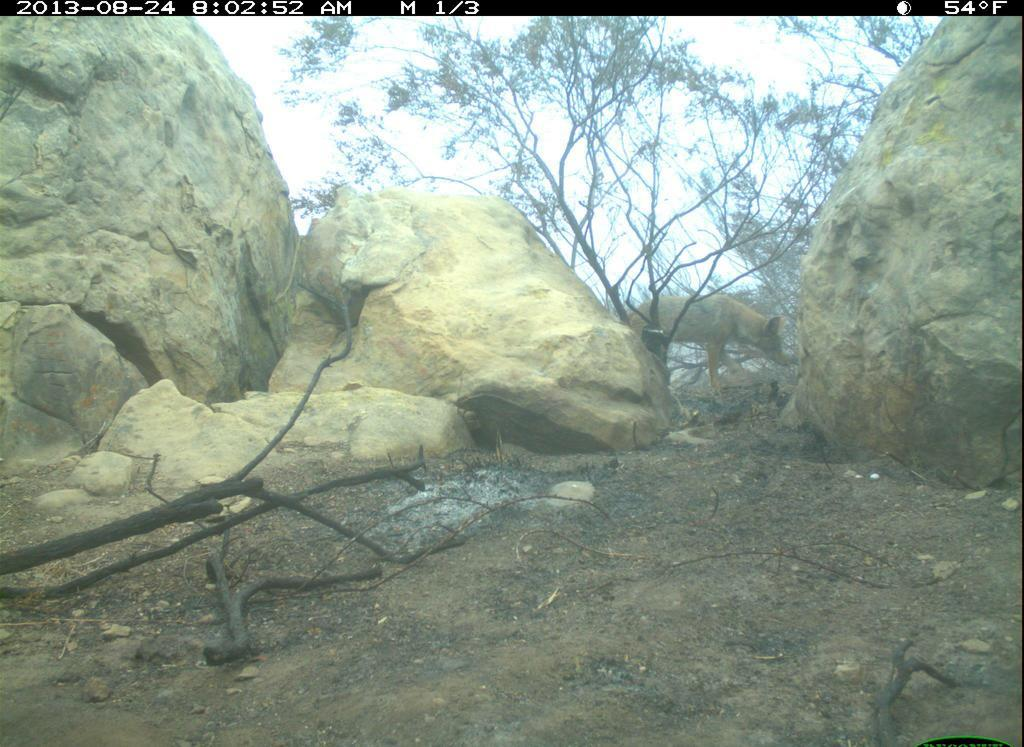coyote: (616, 281, 797, 406)
